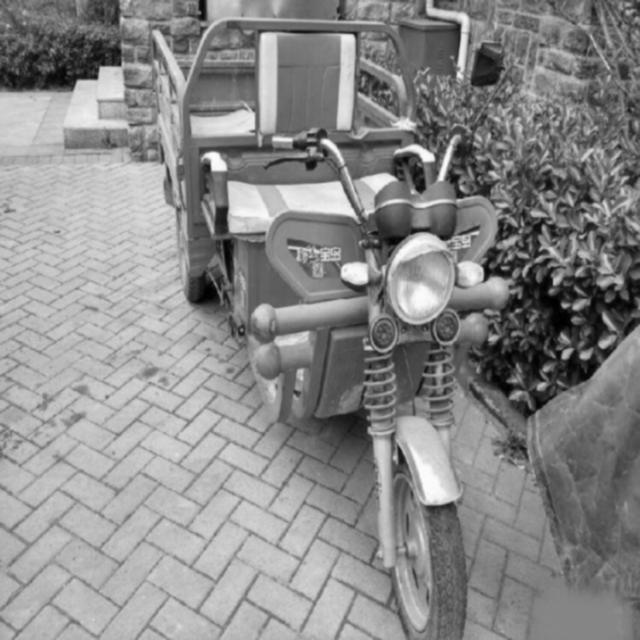tricycle: (148, 16, 510, 639)
